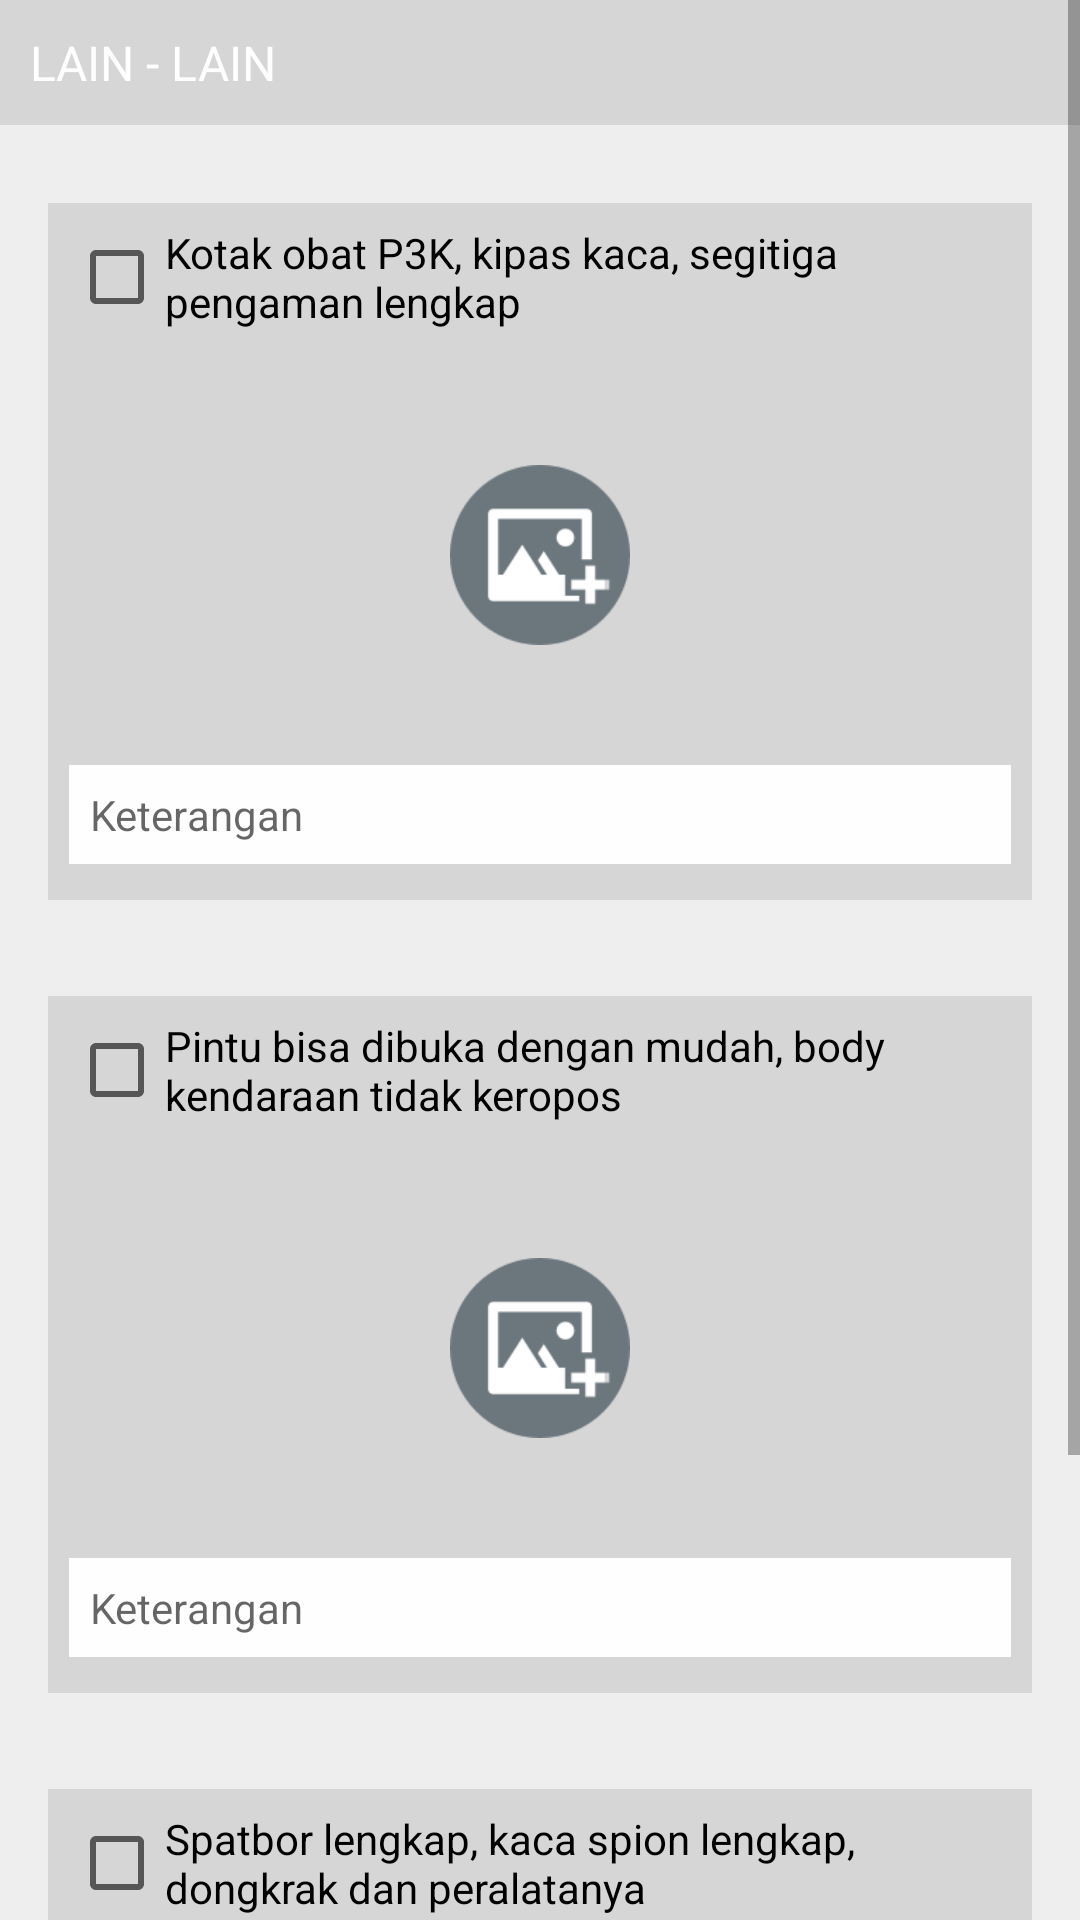

Where icons sit on this 1080px×1920px app screen, as detection(x1, y1, x2, y2):
add: detection(450, 465, 630, 645), detection(450, 1258, 630, 1438)
